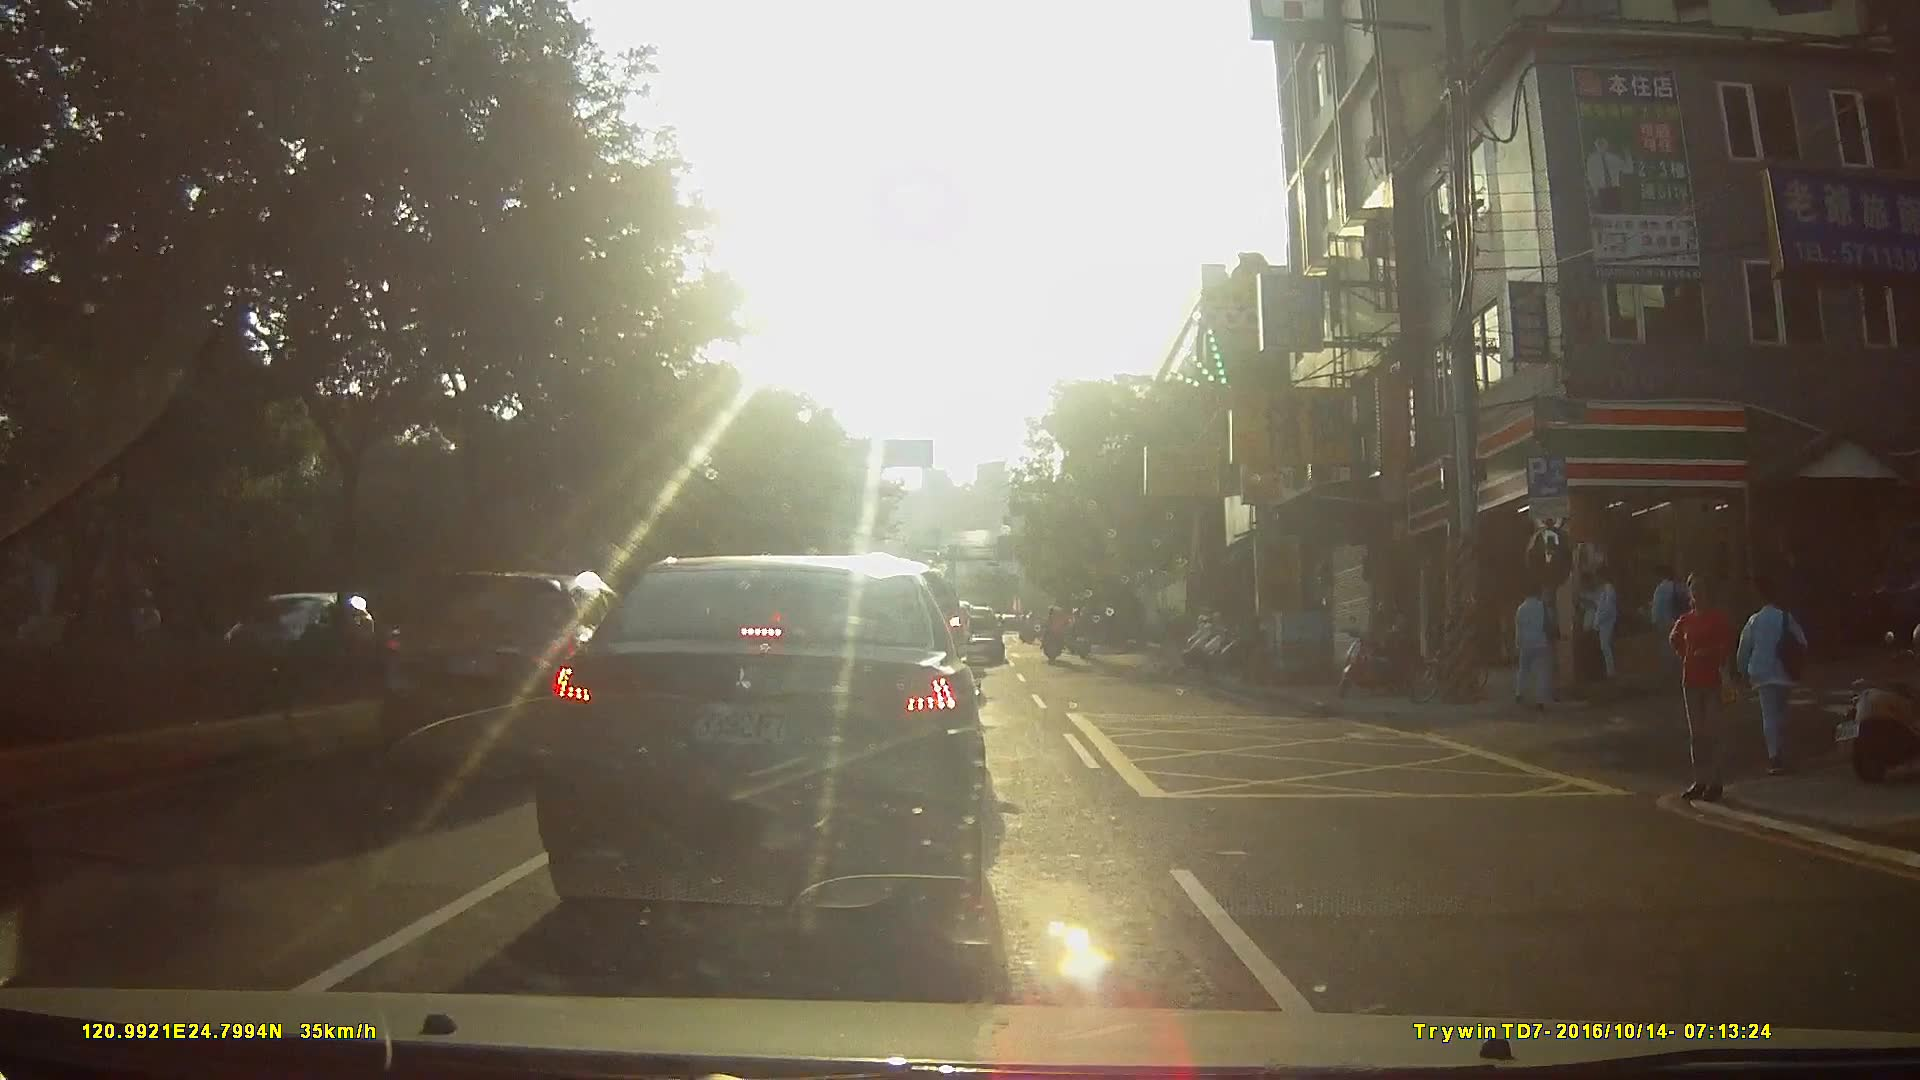pedestrian: (1664, 571, 1734, 801), (1737, 585, 1812, 780), (1506, 579, 1560, 714), (1575, 568, 1619, 685), (1652, 565, 1691, 675), (1575, 568, 1598, 691)
rider: (1040, 606, 1070, 668), (1067, 607, 1093, 660)
vehicle: (528, 552, 1010, 927), (372, 566, 669, 776), (211, 589, 381, 677)
